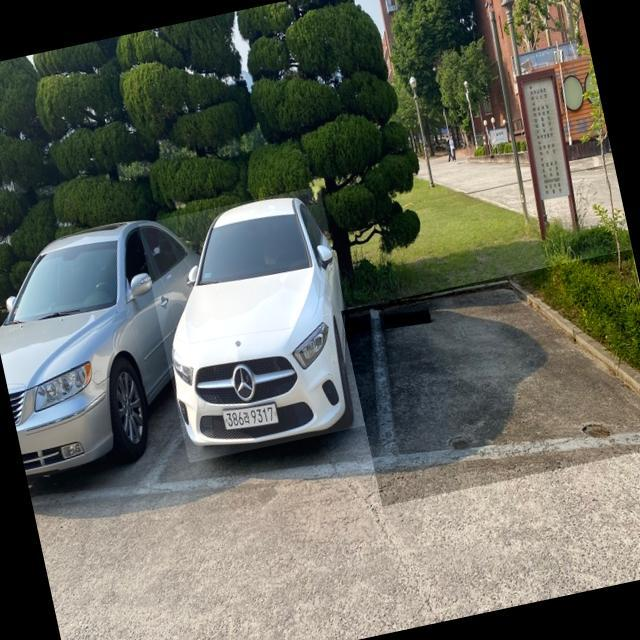empty: (372, 275, 640, 476)
occupied: (138, 185, 370, 463)
